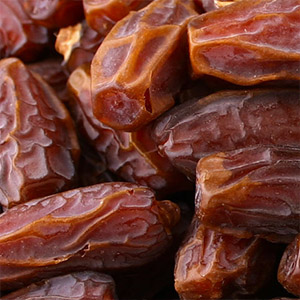hurmaa: (1, 179, 184, 280)
